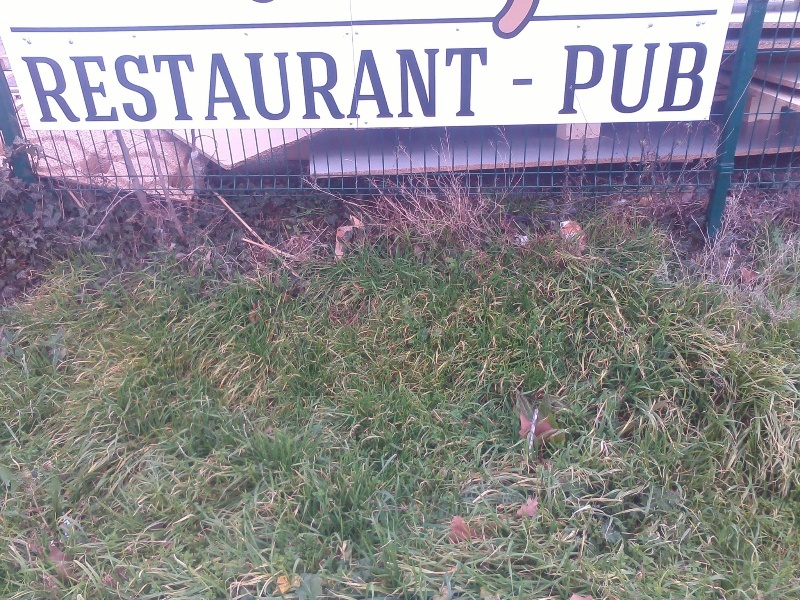text: (33, 47, 48, 126), (49, 47, 64, 126), (65, 47, 80, 126), (81, 47, 96, 126), (97, 47, 112, 126), (113, 47, 128, 126), (129, 47, 144, 126), (145, 47, 160, 126), (161, 47, 176, 126), (177, 47, 192, 126), (193, 47, 208, 126), (209, 47, 224, 126), (225, 47, 240, 126), (241, 47, 256, 126), (257, 47, 272, 126), (273, 47, 288, 126), (289, 47, 304, 126), (305, 47, 320, 126), (321, 47, 336, 126), (337, 47, 352, 126), (353, 47, 368, 126), (369, 47, 384, 126), (385, 47, 400, 126), (401, 47, 416, 126), (417, 47, 432, 126), (433, 47, 448, 126), (449, 47, 464, 126), (465, 47, 480, 126), (577, 41, 592, 115), (593, 41, 608, 115), (609, 41, 624, 115), (625, 41, 640, 115), (641, 41, 656, 115), (657, 41, 672, 115), (673, 41, 688, 115), (689, 41, 704, 115), (563, 41, 576, 115), (20, 47, 32, 126), (481, 47, 488, 126), (705, 41, 710, 115), (513, 79, 528, 86), (529, 79, 533, 86)
